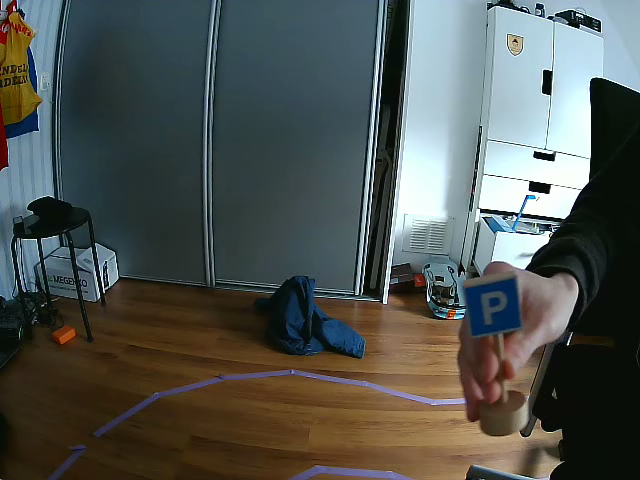parkeerbord: (462, 271, 523, 343)
